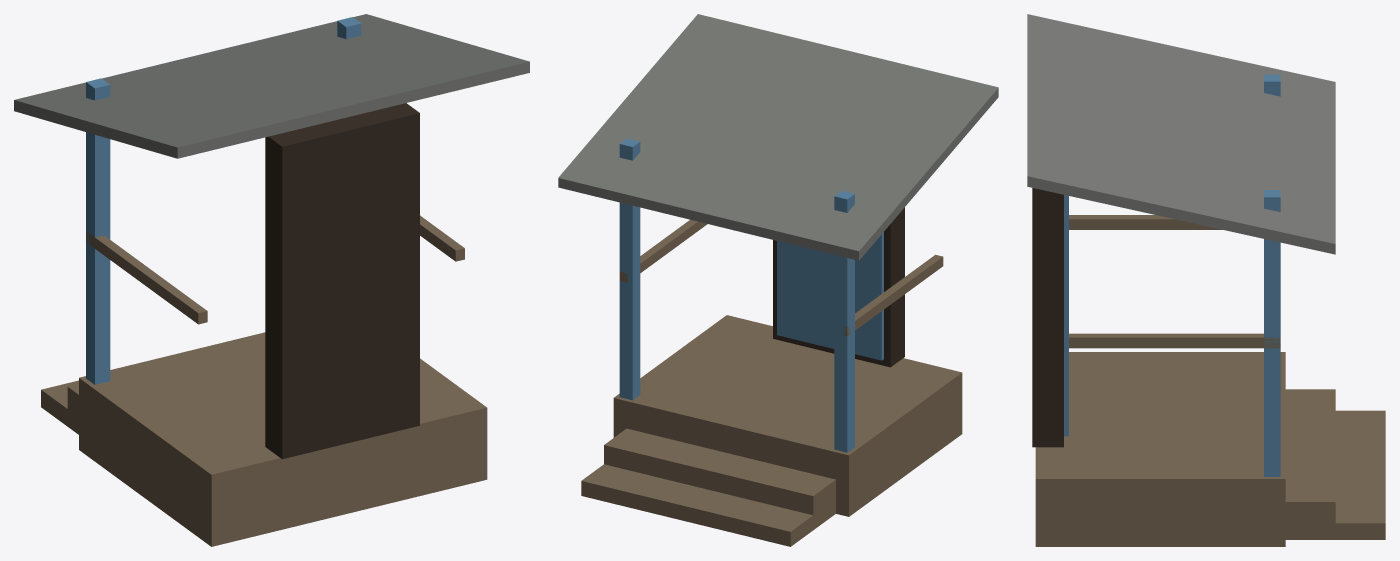
Rendered from izba-porch-1.glb.
3 views of the same model, side by side, from view 1: azimuth 30°, elevation 25°; view 2: azimuth 150°, elevation 25°; view 3: azimuth 270°, elevation 25° (orthographic). The views are drawn at different scales.
Parts seen in each view (by area): view 1: 00_#7a6a56, 01_#3a3028, 03_paint2, 02_paint0; view 2: 03_paint2, 00_#7a6a56, 02_paint0, 01_#3a3028; view 3: 00_#7a6a56, 03_paint2, 01_#3a3028, 02_paint0.
Part boxes in pixels (x1,y1,x2,y2): 00_#7a6a56: [41, 215, 487, 546]; 01_#3a3028: [265, 103, 419, 459]; 03_paint2: [14, 14, 529, 158]; 02_paint0: [86, 17, 361, 384]; 03_paint2: [558, 14, 998, 260]; 00_#7a6a56: [581, 219, 962, 546]; 02_paint0: [619, 138, 883, 452]; 01_#3a3028: [773, 207, 904, 367]; 00_#7a6a56: [1035, 215, 1385, 546]; 03_paint2: [1027, 14, 1335, 254]; 01_#3a3028: [1032, 188, 1063, 447]; 02_paint0: [1064, 74, 1280, 476].
Bounding box in the file's own units: 2.3 × 2.57 × 2.15.
